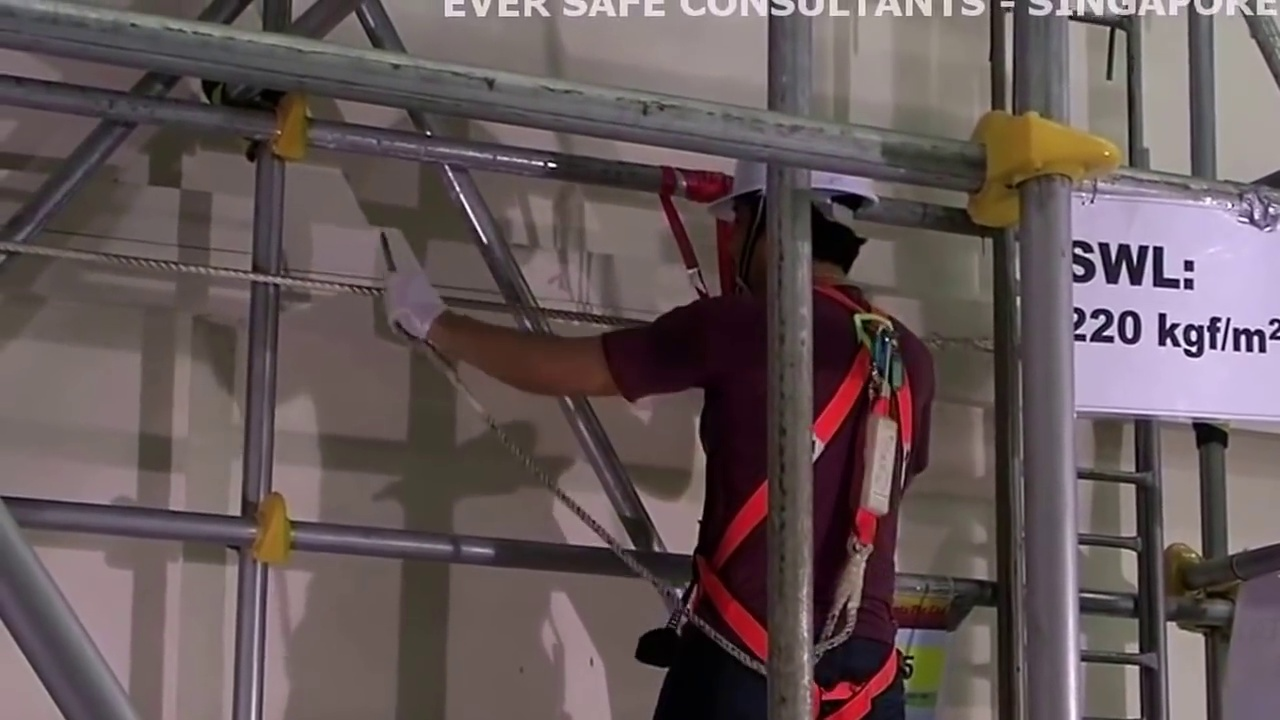harness: (723, 291, 902, 670)
helmet: (720, 157, 875, 200)
leash: (425, 391, 708, 632)
